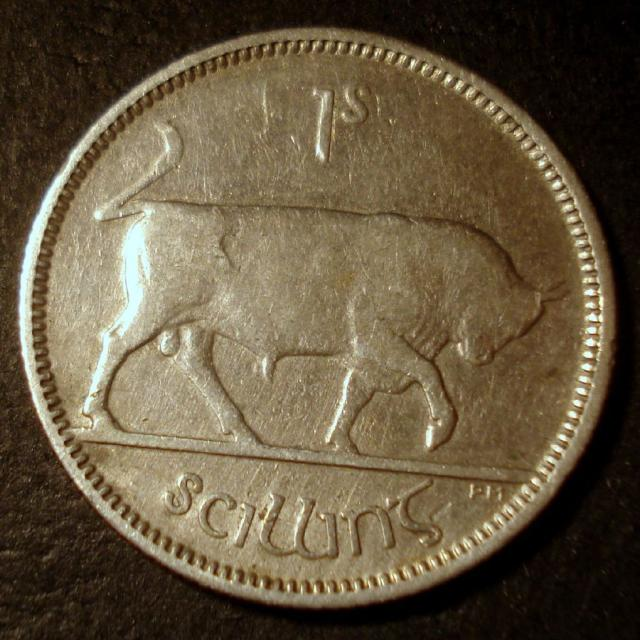Coin: (12, 24, 621, 609)
